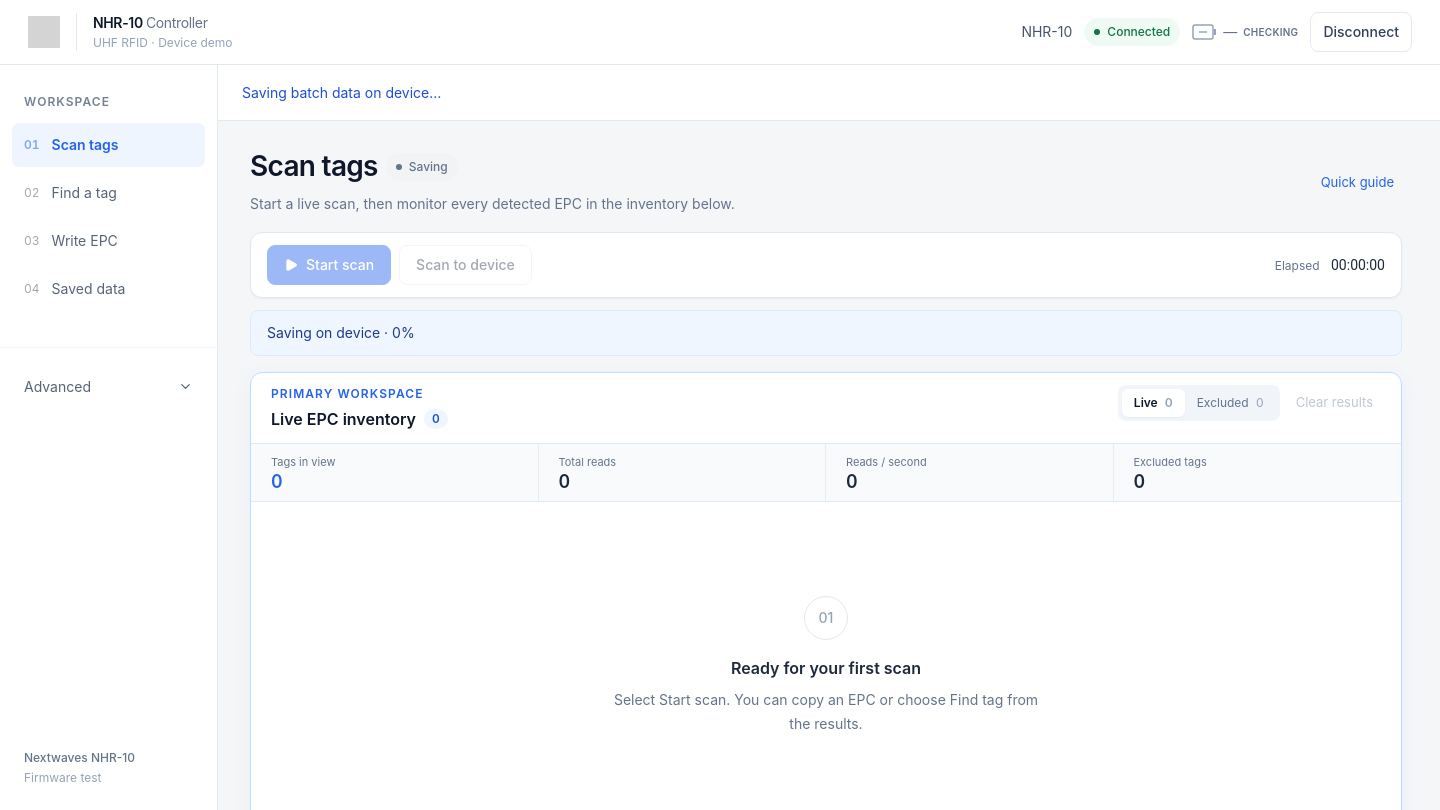
prevents a download while the reader is saving a batch
Click the button "04 Saved data" at [108, 289], box [12,267,205,311]
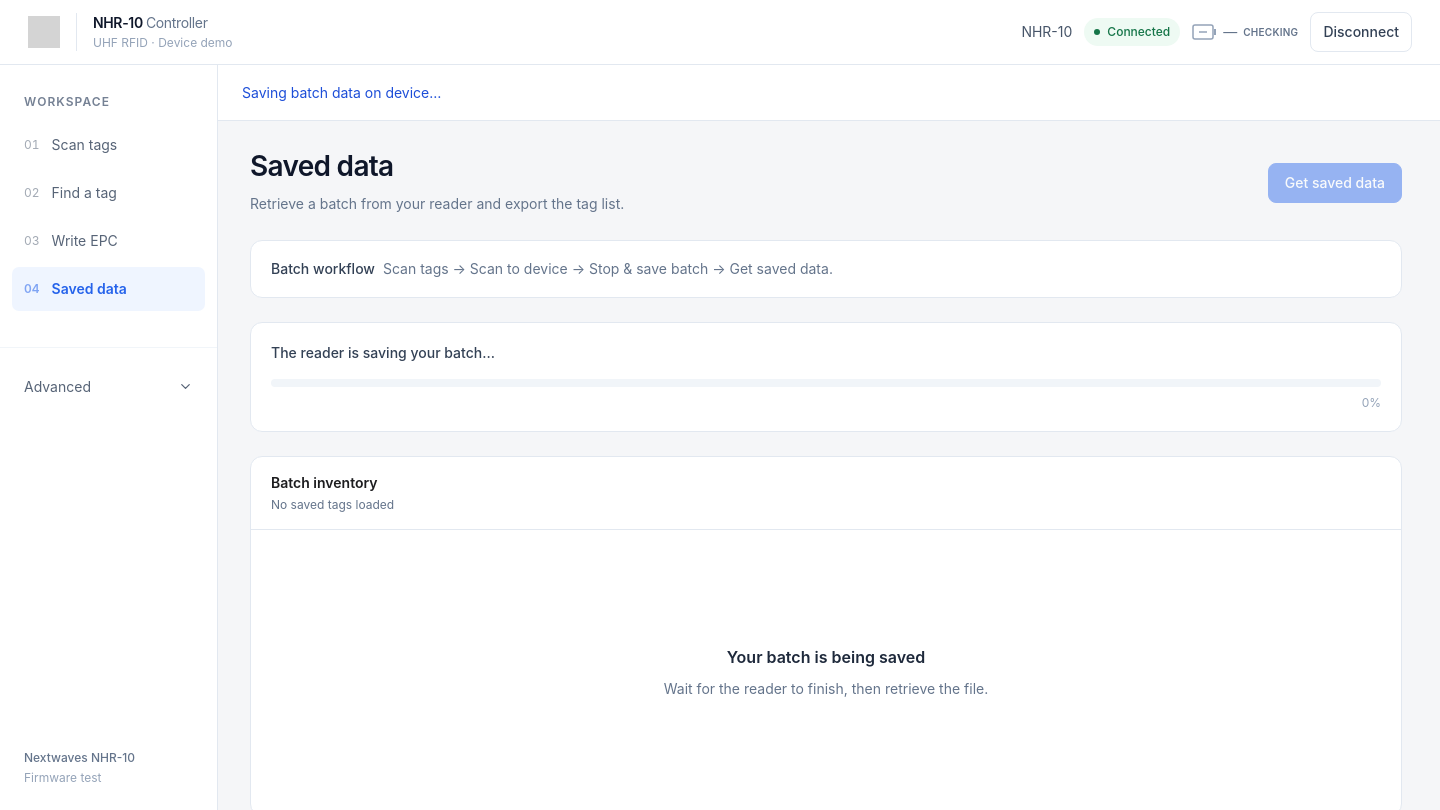
Now the button "Get saved data" is disabled, box [1268,162,1402,202]
